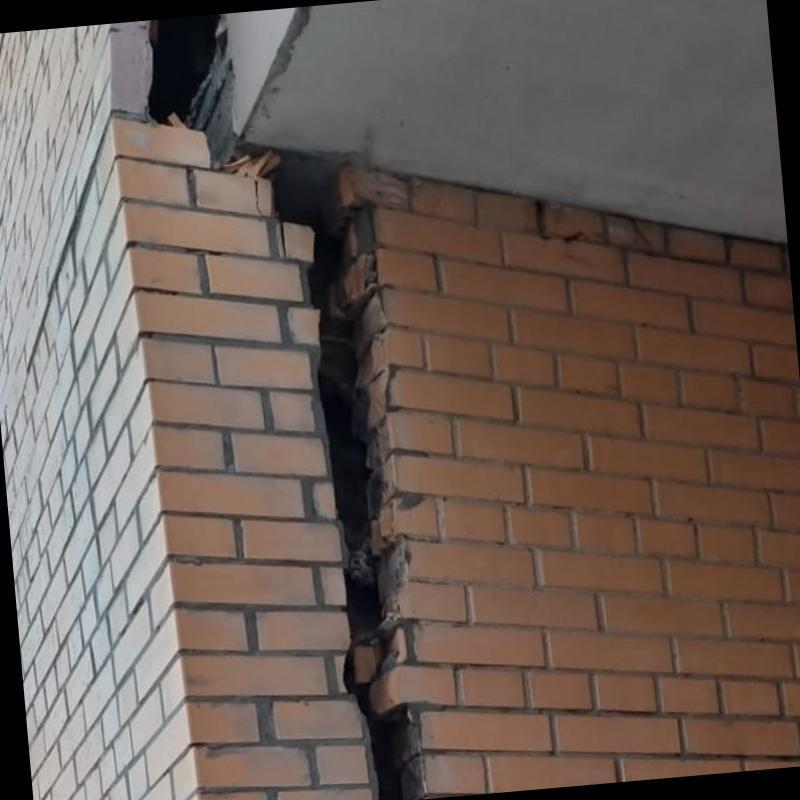pothole: (260, 164, 409, 800), (144, 14, 223, 129)
